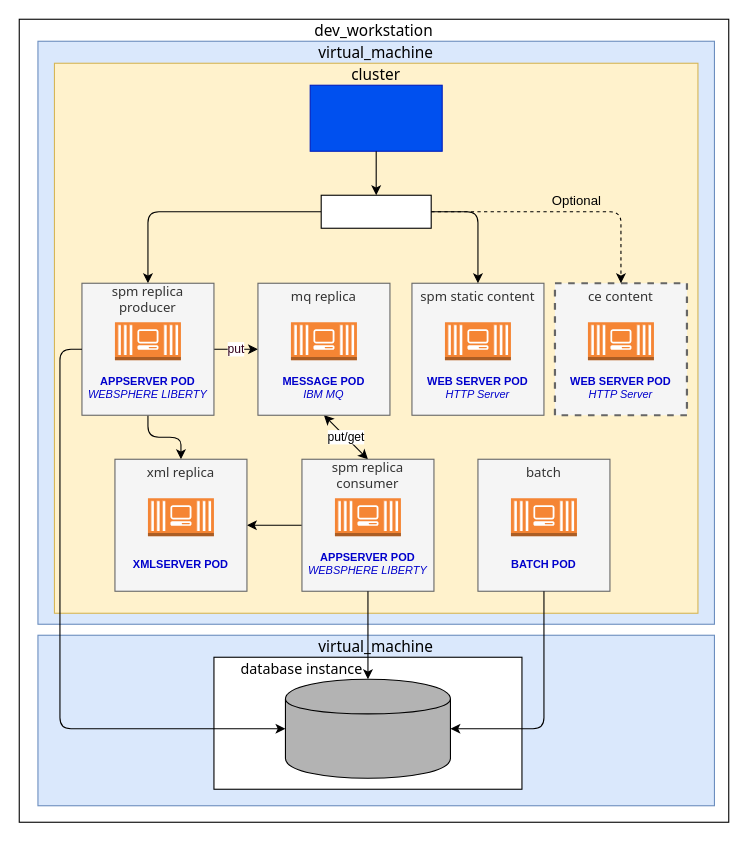
Some shapes in this 748 by 842 pixel diagram are drawn without their labels. Here are the shapes that lost their labels. From the top down, the centre of each, then its label:
the point at 375,117: ingress controller
the point at 375,211: Services
the point at 367,728: spm database
